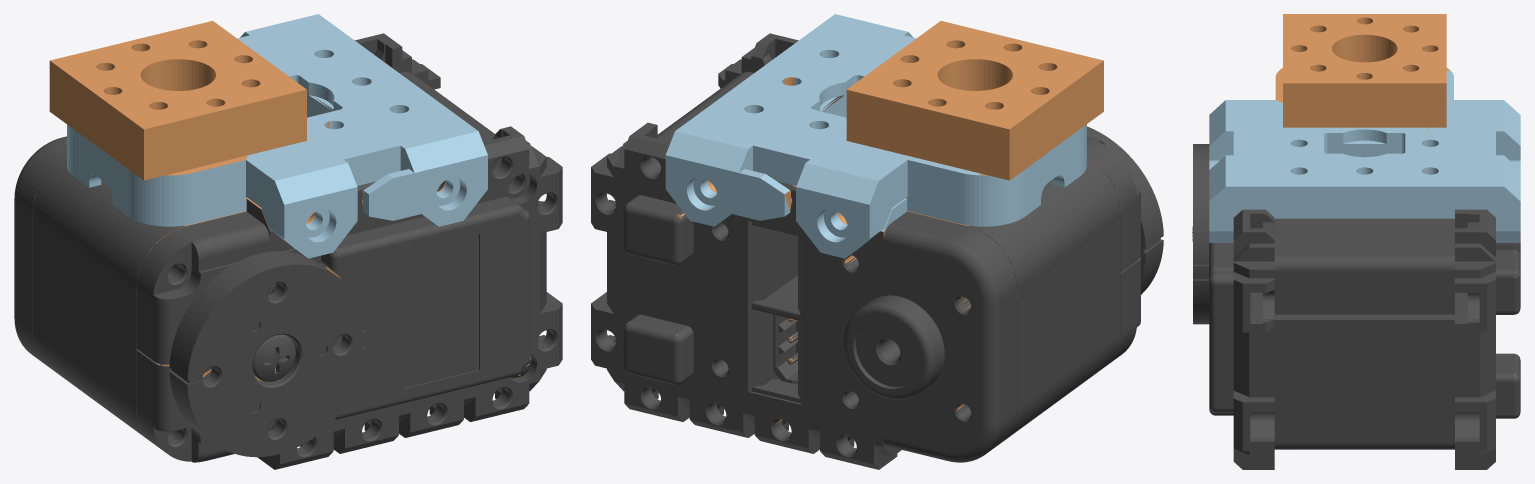
Rendered from rear_right_link.dae.
3 views of the same model, side by side, from view 1: azimuth 30°, elevation 25°; view 2: azimuth 150°, elevation 25°; view 3: azimuth 270°, elevation 25° (orthographic). The views are drawn at different scales.
Visible parts, largest first — view 1: tmp_export_rear_right_link; view 2: tmp_export_rear_right_link; view 3: tmp_export_rear_right_link.
Boxes of the visible parts, left/top/right/bottom form: tmp_export_rear_right_link: left=14, top=14, right=562, bottom=469; tmp_export_rear_right_link: left=591, top=14, right=1163, bottom=469; tmp_export_rear_right_link: left=1192, top=14, right=1520, bottom=469.
Bounding box in the file's own units: 0.05 × 0.04 × 0.041.
